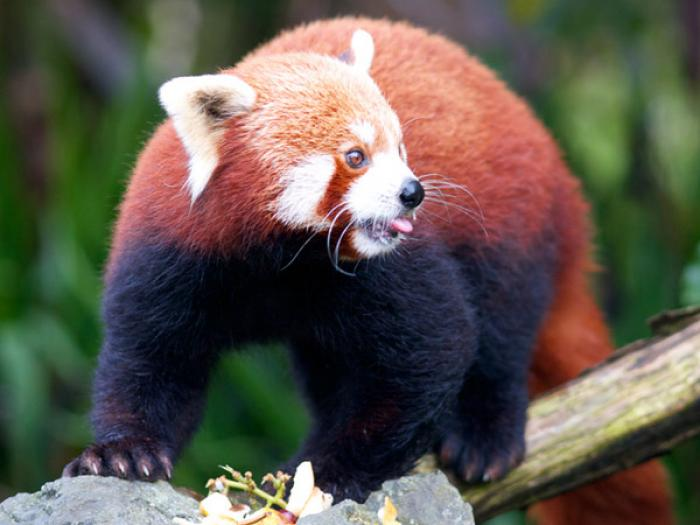red_panda: (99, 33, 593, 481)
